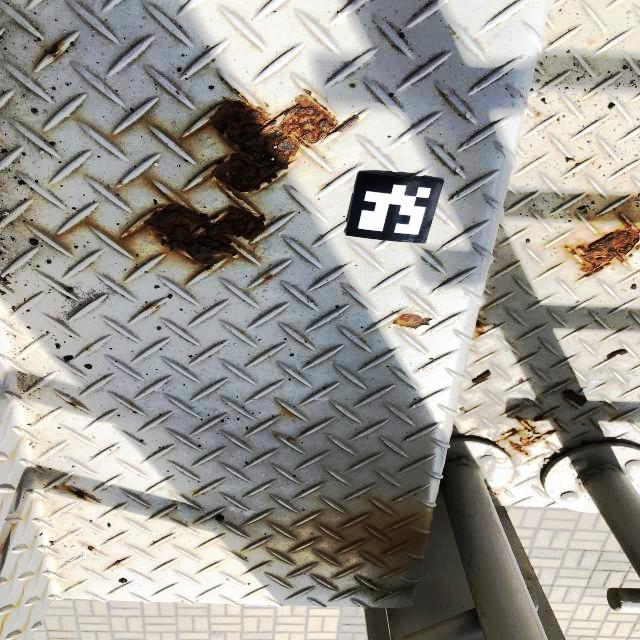Corrosion: (201, 86, 360, 202), (145, 203, 265, 266), (568, 215, 640, 278), (492, 416, 557, 457), (393, 314, 434, 329), (473, 319, 487, 340), (47, 43, 60, 58), (70, 491, 87, 500), (530, 415, 545, 422), (546, 442, 555, 449), (86, 546, 95, 551), (113, 561, 121, 566), (493, 492, 500, 496)
